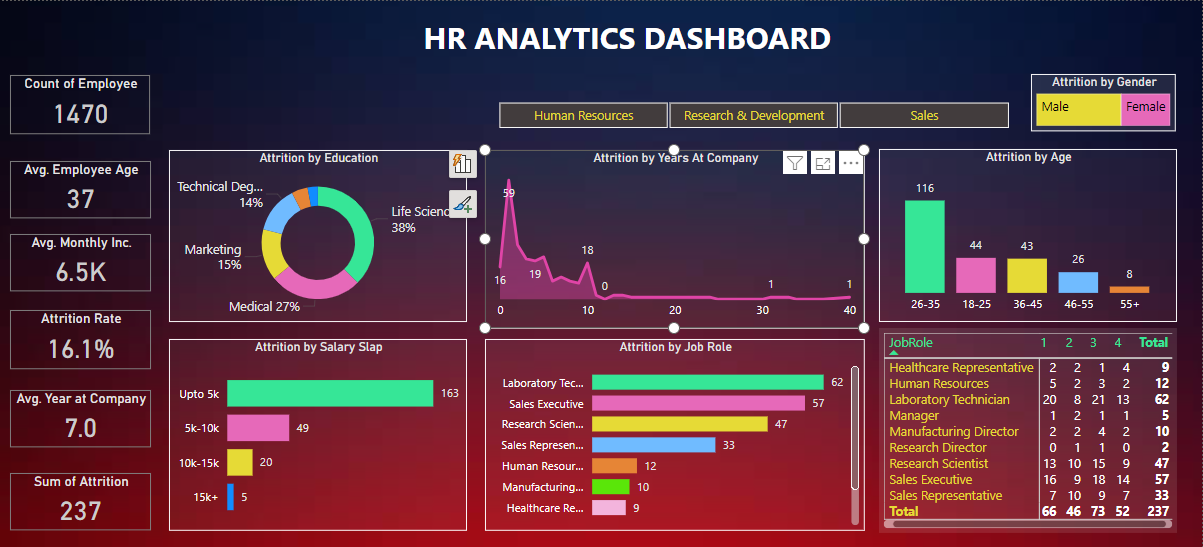

Layout of this report page (visuals, bound fields, positions):
{"tool":"powerbi","page":{"name":"Page 1","canvas":[1280,720],"ordinal":0},"visuals":[{"type":"card","title":"Count of Employee","fields":{"Values":["CountNonNull(HR_Analytics.EmpID)"]},"box":[11.8,78.5,149.2,62.8],"z":0},{"type":"card","title":"Sum of Attrition","fields":{"Values":["Sum(HR_Analytics.Attrition)"]},"box":[11.4,502.3,149.8,61.4],"z":1000},{"type":"card","title":"Attrition Rate","fields":{"Values":["HR_Analytics.AttritionRate"]},"box":[11.4,328.2,149.8,62.8],"z":2000},{"type":"card","title":"Avg. Employee Age","fields":{"Values":["Avg(HR_Analytics.Age)"]},"box":[11.4,169.8,149.8,61.4],"z":3000},{"type":"card","title":"Avg. Year at Company","fields":{"Values":["Avg(HR_Analytics.YearsAtCompany)"]},"box":[11.4,413.8,149.8,61.4],"z":4000},{"type":"card","title":"Avg. Monthly Inc.","fields":{"Values":["Avg(HR_Analytics.MonthlyIncome)"]},"box":[11.4,248.3,149.8,61.4],"z":5000},{"type":"donutChart","title":"Attrition by Education","fields":{"Y":["Sum(HR_Analytics.Attrition)"],"Category":["HR_Analytics.EducationField"]},"box":[181.2,158.4,316.8,182.7],"z":6000},{"type":"columnChart","title":"Attrition by Age","fields":{"Category":["HR_Analytics.AgeGroup"],"Y":["Sum(HR_Analytics.Attrition)"]},"box":[936.1,157,316.8,184.1],"z":7000},{"type":"barChart","title":"Attrition by Salary Slap","fields":{"Category":["HR_Analytics.SalarySlab"],"Y":["Sum(HR_Analytics.Attrition)"]},"box":[181.2,359.6,316.8,204.1],"z":8000},{"type":"barChart","title":"Attrition by Job Role","fields":{"Y":["Sum(HR_Analytics.Attrition)"],"Category":["HR_Analytics.JobRole"]},"box":[516.6,359.6,403.8,204.1],"z":9000},{"type":"areaChart","title":"Attrition by Years At Company","fields":{"Category":["HR_Analytics.YearsAtCompany"],"Y":["Sum(HR_Analytics.Attrition)"]},"box":[516.6,158.4,403.8,189.8],"z":10000},{"type":"treemap","title":"Attrition by Gender","fields":{"Group":["HR_Analytics.Gender"],"Values":["Sum(HR_Analytics.Attrition)"]},"box":[1097.9,78.1,154.2,61.5],"z":11000},{"type":"textbox","box":[349.5,10.5,640.1,65.5],"z":12000},{"type":"pivotTable","fields":{"Rows":["HR_Analytics.JobRole"],"Columns":["HR_Analytics.JobSatisfaction"],"Values":["Sum(HR_Analytics.Attrition)"]},"box":[936.1,348.2,316.8,218.3],"z":13000},{"type":"slicer","fields":{"Values":["HR_Analytics.Department"]},"box":[506.6,100.8,591.7,39.3],"z":14000}]}

Visuals, with their boxes on the page's 1280x720 design canvas (x1, y1, x2, y2). These are canvas units, not pixel positions in the 1203x547 screenshot, which may show the page scaled, cropped or inside an application window:
"Count of Employee" card: (12,78,161,141)
"Sum of Attrition" card: (11,502,161,564)
"Attrition Rate" card: (11,328,161,391)
"Avg. Employee Age" card: (11,170,161,231)
"Avg. Year at Company" card: (11,414,161,475)
"Avg. Monthly Inc." card: (11,248,161,310)
"Attrition by Education" donutChart: (181,158,498,341)
"Attrition by Age" columnChart: (936,157,1253,341)
"Attrition by Salary Slap" barChart: (181,360,498,564)
"Attrition by Job Role" barChart: (517,360,920,564)
"Attrition by Years At Company" areaChart: (517,158,920,348)
"Attrition by Gender" treemap: (1098,78,1252,140)
textbox: (350,10,990,76)
pivotTable - HR_Analytics.JobRole x HR_Analytics.JobSatisfaction: (936,348,1253,566)
slicer - HR_Analytics.Department: (507,101,1098,140)
